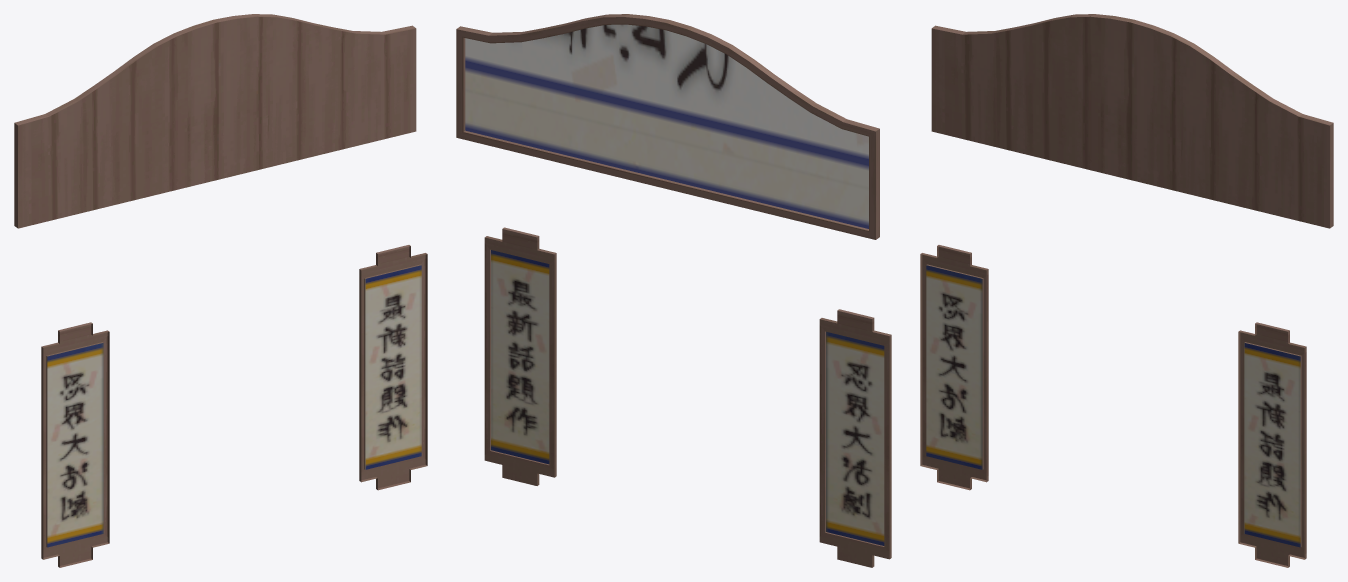
File: SM_ENV_KNVLLG_Signs_4.fbx
3 renders of one model, left to right at view 1: azimuth 30°, elevation 25°; view 2: azimuth 150°, elevation 25°; view 3: azimuth 330°, elevation 25°, orthographic. The views are drawn at different scales.
Visible parts, largest first — view 1: SM_ENV_KNVLLG_Signs_4.mo; view 2: SM_ENV_KNVLLG_Signs_4.mo; view 3: SM_ENV_KNVLLG_Signs_4.mo.
Part boxes in pixels (box(x1,y1,x2,y2)): SM_ENV_KNVLLG_Signs_4.mo: box(14, 14, 427, 567); SM_ENV_KNVLLG_Signs_4.mo: box(456, 14, 891, 567); SM_ENV_KNVLLG_Signs_4.mo: box(920, 14, 1333, 567).
Size of the model in its own units: 2451 by 2877 by 235.
